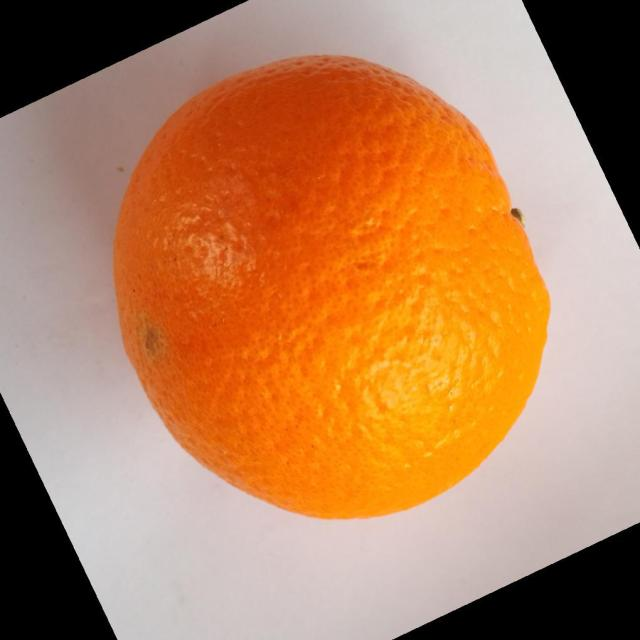fresh orange: (111, 52, 552, 521)
